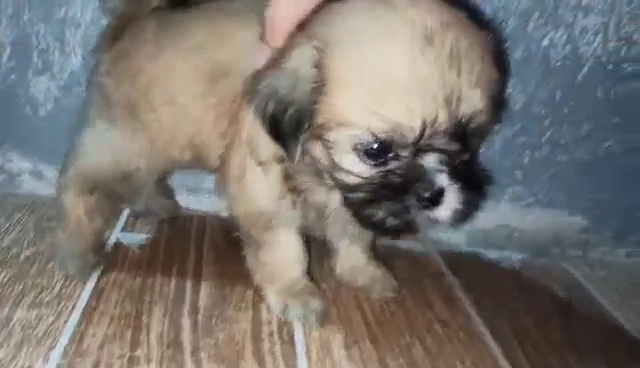dog: (55, 1, 506, 328)
